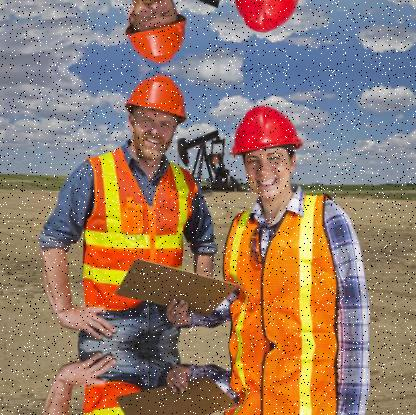helmet: (230, 91, 310, 212), (119, 68, 195, 165), (118, 0, 195, 69), (229, 0, 310, 46)
